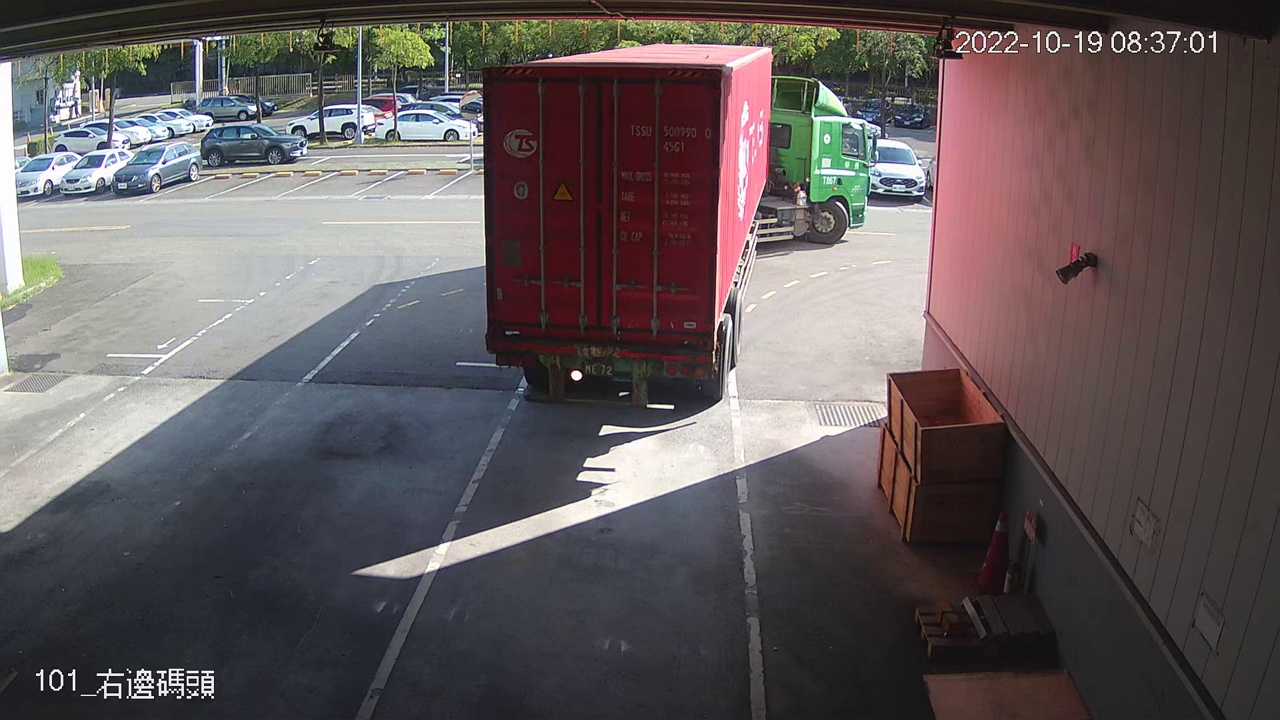container: (624, 118, 715, 158)
